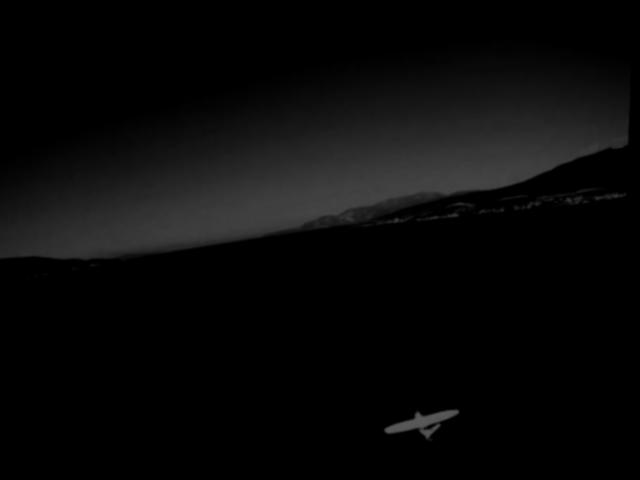hedef: (377, 399, 478, 457)
